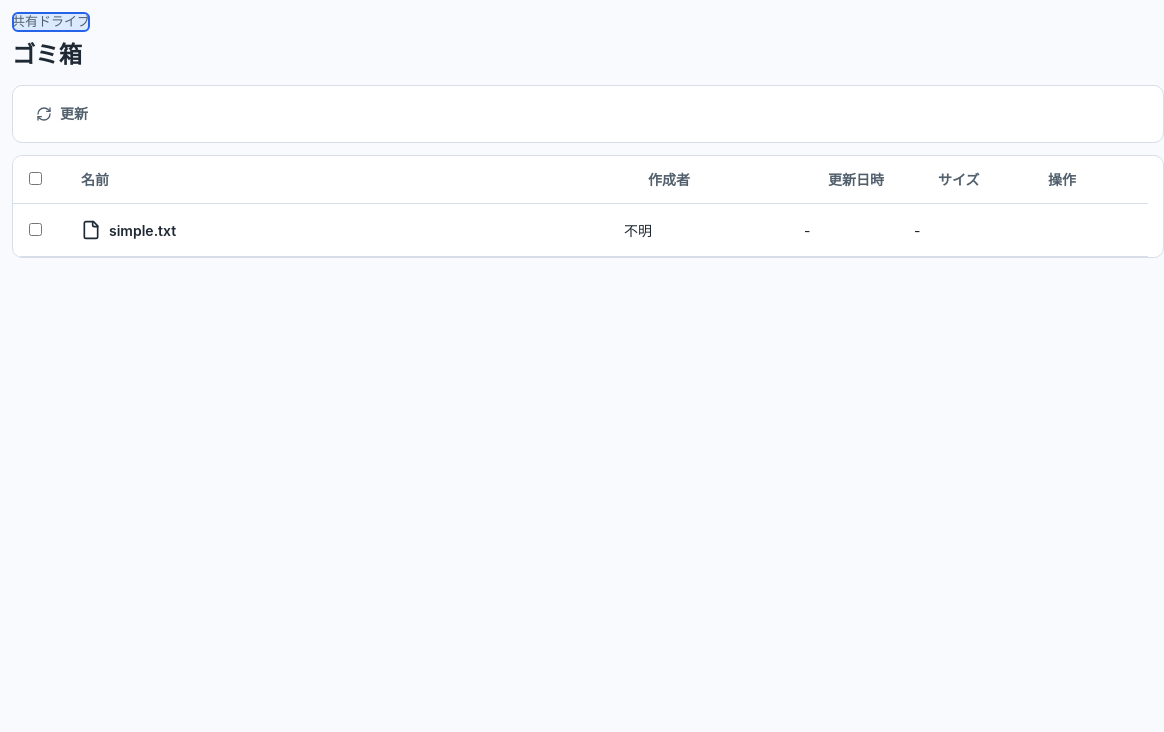
it: DrivePage drag and drop upload › restores a single non-conflicting trash item without showing state changed warning
The width and height of the screenshot is (1164, 732).
Click the checkbox named "simpleを選択" at x=36, y=229, box [29,223,42,236]
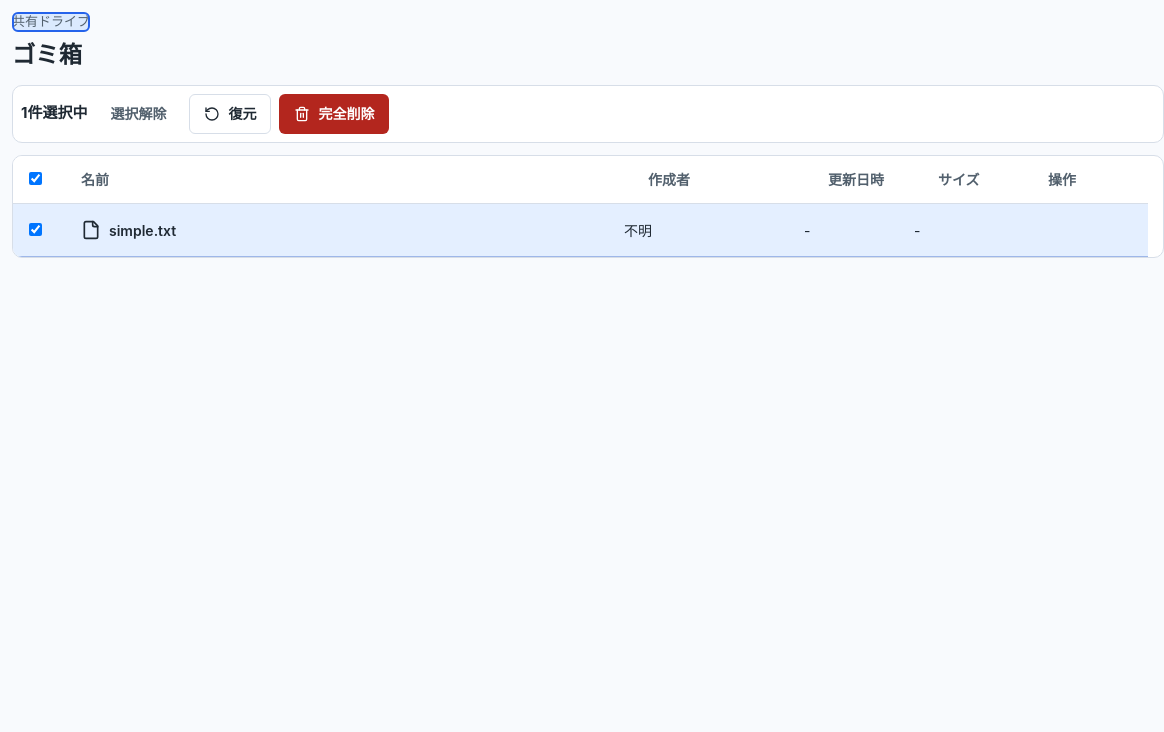
Click the button "復元" at x=230, y=114, box [190,94,272,134]
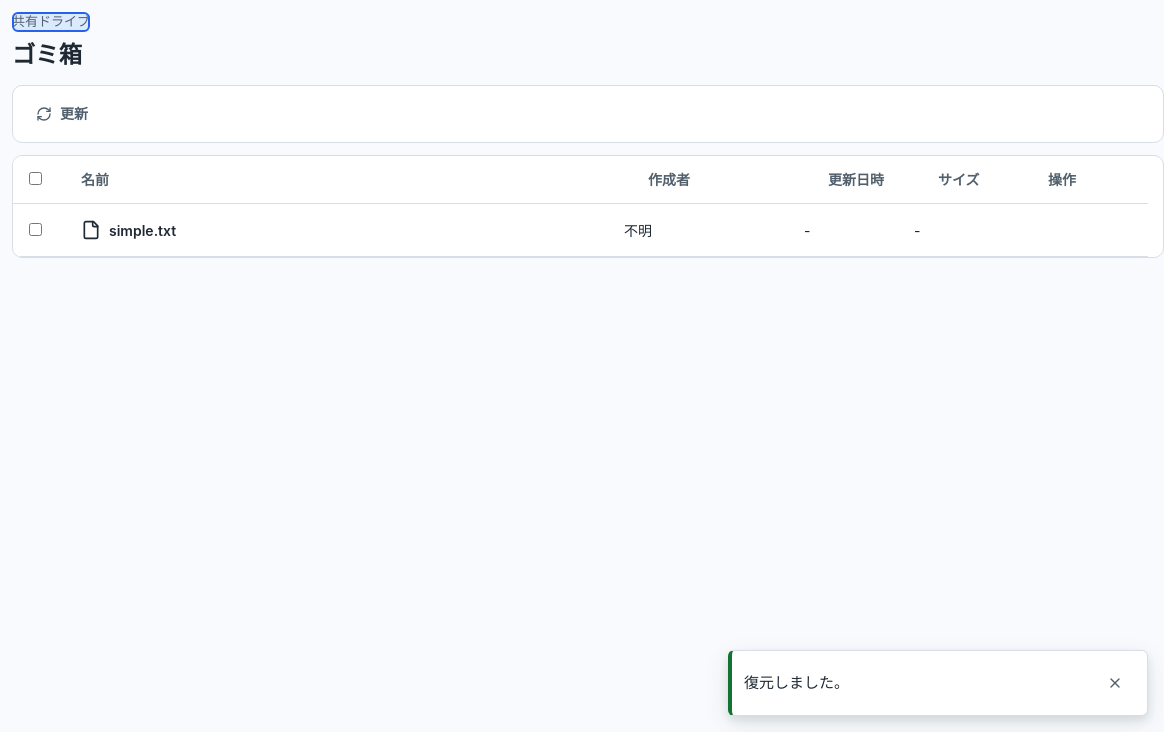
Expected: the text "復元しました。" is shown, [744,672,849,694]
